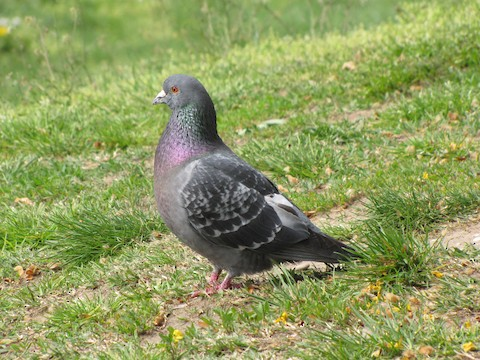pigeon: (148, 71, 368, 292)
